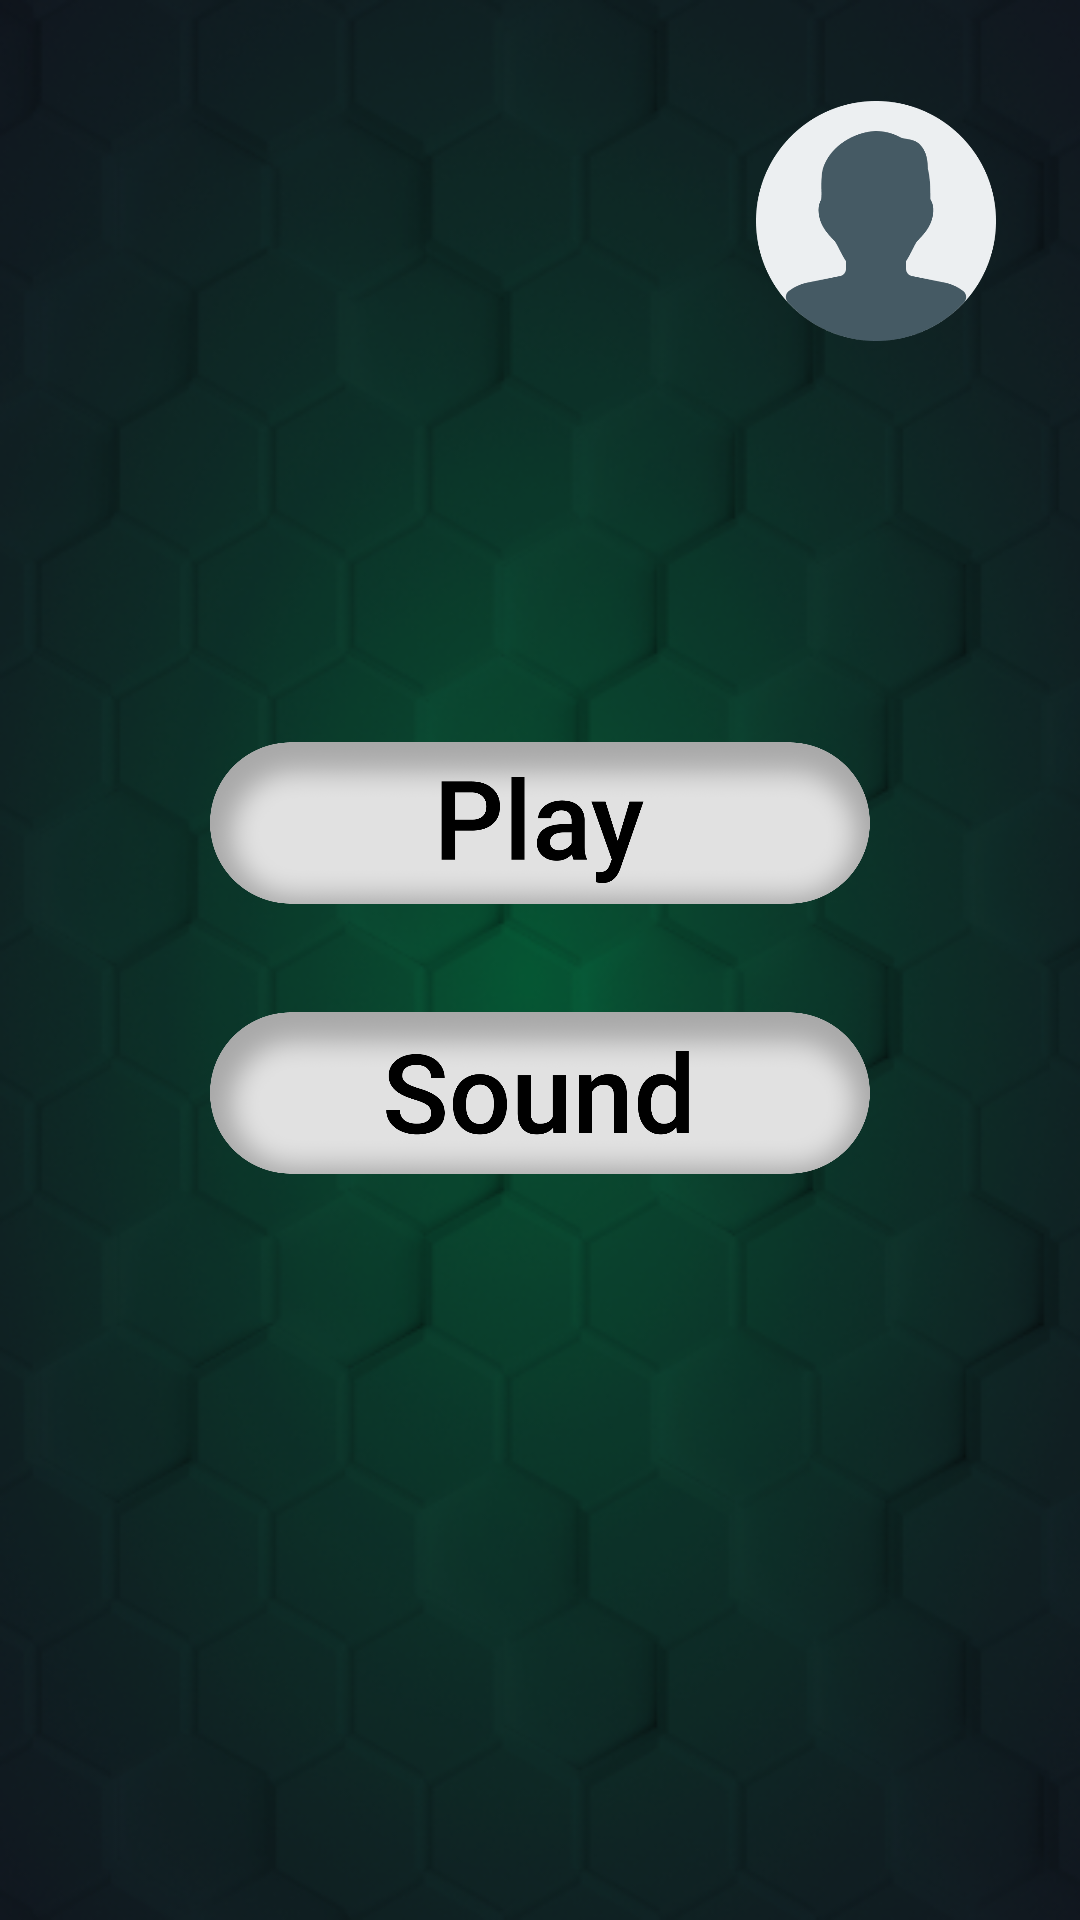

Point at icon controls on the screen. Image size 1080*1920, points as (x,y).
profile: (876,221)
